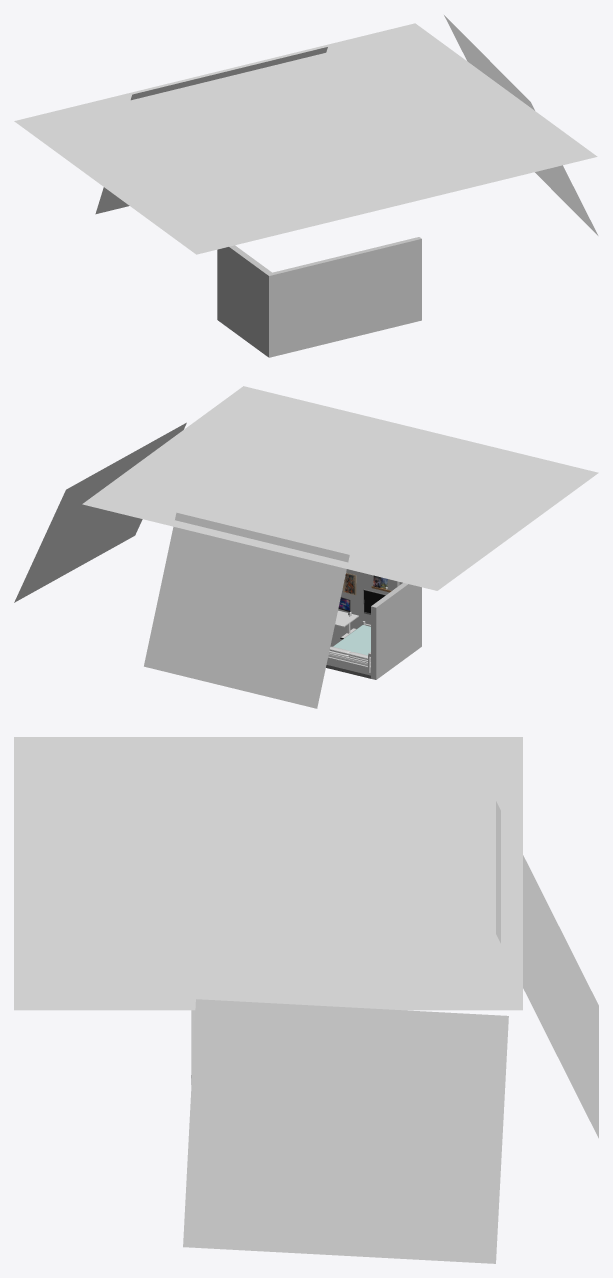
The model's file is isogameroomtest.fbx.
The picture shows the model from 3 angles, top to bottom: view 1: azimuth 30°, elevation 25°; view 2: azimuth 150°, elevation 25°; view 3: azimuth 270°, elevation 25°; orthographic projection. The views are drawn at different scales.
Parts seen in each view (by area): view 1: Cube.024, Cube.002, Cube.026, Cube.025; view 2: Cube.024, Cube.025, Cube.026, Cube.002, Cube.022; view 3: Cube.024, Cube.026, Cube.025.
Boxes of the visible parts, left/top/right/bottom form: Cube.024: left=14, top=23, right=597, bottom=254; Cube.002: left=217, top=237, right=421, bottom=357; Cube.026: left=444, top=15, right=598, bottom=235; Cube.025: left=95, top=47, right=327, bottom=214; Cube.024: left=82, top=386, right=598, bottom=590; Cube.025: left=144, top=512, right=349, bottom=708; Cube.026: left=14, top=422, right=186, bottom=602; Cube.002: left=326, top=569, right=421, bottom=679; Cube.022: left=333, top=625, right=370, bottom=655; Cube.024: left=14, top=737, right=522, bottom=1010; Cube.026: left=183, top=999, right=508, bottom=1263; Cube.025: left=496, top=801, right=598, bottom=1138.
Size of what is drawn, in the model's own units: 1435 by 535 by 1068.
